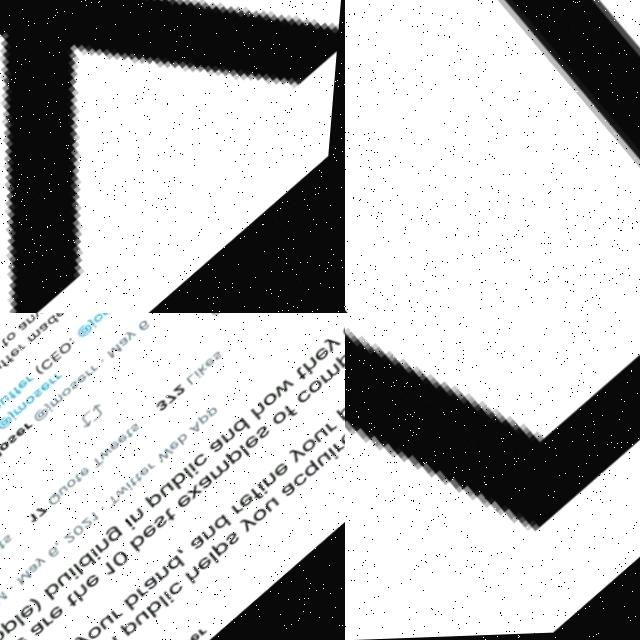2: (54, 546, 69, 561), (141, 320, 155, 334)
3: (41, 505, 56, 519), (169, 393, 184, 407)
A: (196, 536, 215, 554), (38, 621, 57, 639), (203, 476, 221, 494), (214, 440, 232, 457), (287, 485, 304, 500), (151, 578, 168, 593), (194, 423, 209, 437), (121, 337, 135, 350), (20, 321, 34, 334), (36, 564, 47, 575), (42, 323, 53, 334), (0, 601, 6, 615)
B: (51, 582, 73, 604), (176, 472, 198, 493), (154, 600, 175, 621), (131, 593, 152, 613), (136, 535, 157, 555), (182, 434, 197, 448), (0, 403, 8, 414)
C: (175, 582, 193, 600), (298, 475, 316, 492), (198, 455, 216, 472), (301, 392, 318, 407), (43, 358, 60, 373)
D: (345, 313, 640, 640), (173, 556, 195, 577), (219, 516, 240, 536), (237, 419, 258, 439), (85, 554, 105, 572), (49, 315, 64, 330)
E: (92, 573, 111, 592), (249, 435, 268, 454), (243, 494, 263, 512), (318, 348, 336, 366), (279, 464, 297, 481), (27, 604, 44, 621), (57, 606, 74, 622), (183, 495, 200, 511), (205, 558, 221, 574), (148, 526, 165, 541), (53, 351, 68, 365), (173, 441, 187, 454), (85, 467, 97, 479), (114, 441, 126, 453), (122, 434, 134, 446), (44, 382, 56, 394), (145, 468, 157, 479), (208, 360, 220, 371), (21, 427, 32, 438), (22, 379, 33, 390), (14, 348, 25, 359), (0, 544, 9, 557), (81, 375, 92, 385), (197, 633, 211, 640), (57, 313, 70, 320), (20, 635, 38, 640), (104, 313, 115, 318)
F: (254, 487, 273, 506), (287, 406, 305, 423), (12, 390, 23, 402), (4, 359, 15, 370), (17, 386, 27, 397), (9, 355, 19, 365)
G: (110, 526, 131, 546)
H: (193, 568, 212, 587), (81, 585, 101, 603), (306, 360, 326, 378), (256, 404, 275, 422)
I: (395, 0, 640, 313), (97, 549, 110, 563), (262, 485, 275, 498), (171, 593, 183, 606), (333, 450, 345, 463), (76, 569, 89, 581), (131, 520, 144, 532), (193, 465, 206, 477), (197, 372, 207, 382), (131, 483, 141, 492)
J: (12, 410, 24, 423), (91, 319, 103, 331), (49, 403, 60, 414)
K: (201, 365, 215, 378)
L: (190, 375, 204, 388), (166, 597, 179, 610), (244, 447, 257, 460), (22, 615, 35, 628), (80, 564, 93, 577), (216, 554, 229, 566), (189, 469, 202, 481)
M: (215, 461, 238, 483), (323, 365, 345, 387), (23, 570, 42, 587), (110, 344, 128, 361), (0, 592, 16, 607), (18, 402, 33, 417), (54, 395, 69, 409), (32, 330, 46, 344), (0, 448, 9, 465)
N: (208, 527, 225, 544), (268, 474, 285, 491), (226, 430, 243, 446), (162, 568, 179, 583), (102, 540, 119, 555), (136, 510, 153, 525), (29, 314, 40, 326), (113, 637, 130, 640), (0, 346, 4, 357)
O: (258, 509, 277, 527), (306, 440, 324, 458), (311, 381, 329, 399), (276, 412, 294, 430), (266, 394, 284, 411), (95, 625, 113, 640), (61, 342, 78, 357), (71, 478, 85, 492), (64, 387, 78, 401), (4, 440, 18, 454), (96, 313, 110, 327), (29, 394, 42, 408), (0, 629, 15, 640), (10, 332, 21, 342)
P: (151, 490, 172, 511), (129, 620, 148, 638), (231, 450, 250, 468), (9, 617, 28, 635), (219, 541, 238, 559), (202, 414, 216, 427), (210, 407, 224, 420), (339, 353, 345, 371), (340, 405, 345, 425)
Q: (306, 462, 327, 482), (53, 492, 70, 508)
R: (119, 608, 133, 622), (144, 586, 158, 600), (330, 422, 344, 436), (50, 615, 64, 629), (238, 504, 252, 517), (28, 421, 39, 432), (206, 629, 217, 639), (337, 443, 345, 456), (95, 365, 104, 374), (154, 463, 163, 471), (58, 373, 67, 381), (30, 375, 38, 384), (22, 343, 31, 351), (90, 370, 98, 378), (53, 378, 61, 386)
S: (260, 426, 278, 444), (159, 516, 176, 532), (233, 534, 250, 549), (73, 380, 87, 393), (9, 534, 21, 545), (216, 353, 228, 364), (37, 389, 49, 400), (136, 424, 147, 435), (13, 434, 24, 445)
T: (169, 509, 185, 526), (72, 594, 88, 610), (298, 369, 314, 385), (96, 456, 111, 471), (113, 495, 128, 509), (3, 338, 15, 349), (134, 479, 145, 489), (4, 541, 15, 551), (80, 475, 91, 485), (140, 475, 150, 484), (131, 431, 140, 440)
U: (64, 572, 81, 589), (271, 499, 288, 515), (107, 616, 124, 632), (318, 431, 335, 447), (165, 484, 182, 500), (142, 613, 159, 628), (322, 455, 339, 470), (3, 394, 16, 407), (64, 486, 76, 497), (0, 363, 8, 374)
W: (278, 380, 300, 400), (160, 448, 180, 466), (119, 486, 136, 501), (103, 447, 120, 462)
X: (0, 0, 345, 313), (193, 487, 210, 502)
Y: (245, 516, 266, 537), (293, 447, 314, 468), (326, 335, 345, 356), (127, 329, 142, 343), (41, 556, 55, 569), (81, 632, 102, 640), (34, 313, 48, 319)
